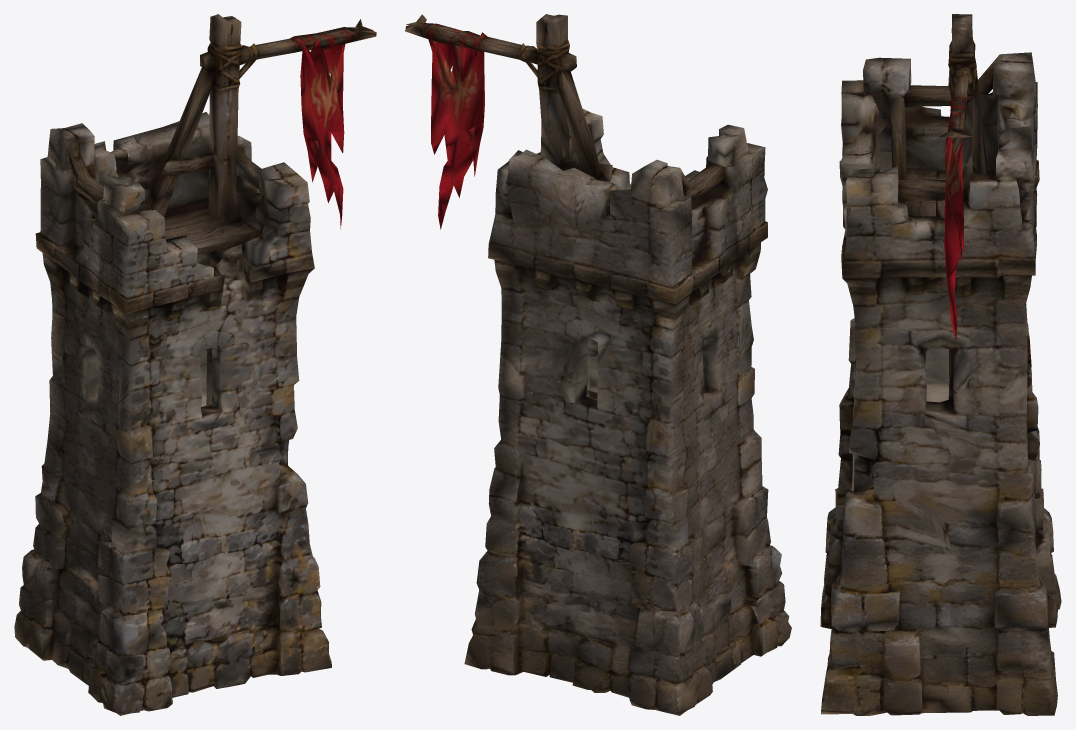
File: Watchtower.fbx
3 views of the same model, side by side, from view 1: azimuth 30°, elevation 25°; view 2: azimuth 150°, elevation 25°; view 3: azimuth 270°, elevation 25° (orthographic). The views are drawn at different scales.
Parts seen in each view (by area): view 1: Watchtower_Body; view 2: Watchtower_Body; view 3: Watchtower_Body.
Boxes of the visible parts, box(x1,y1,x2,y2) form: Watchtower_Body: box(14, 14, 376, 715); Watchtower_Body: box(405, 14, 791, 715); Watchtower_Body: box(820, 14, 1061, 715).
Bounding box in the file's own units: 0.546 × 1 × 0.324.
1 material, 1 textured.
